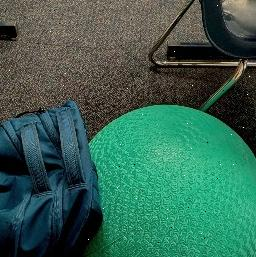algae: (81, 106, 256, 257)
